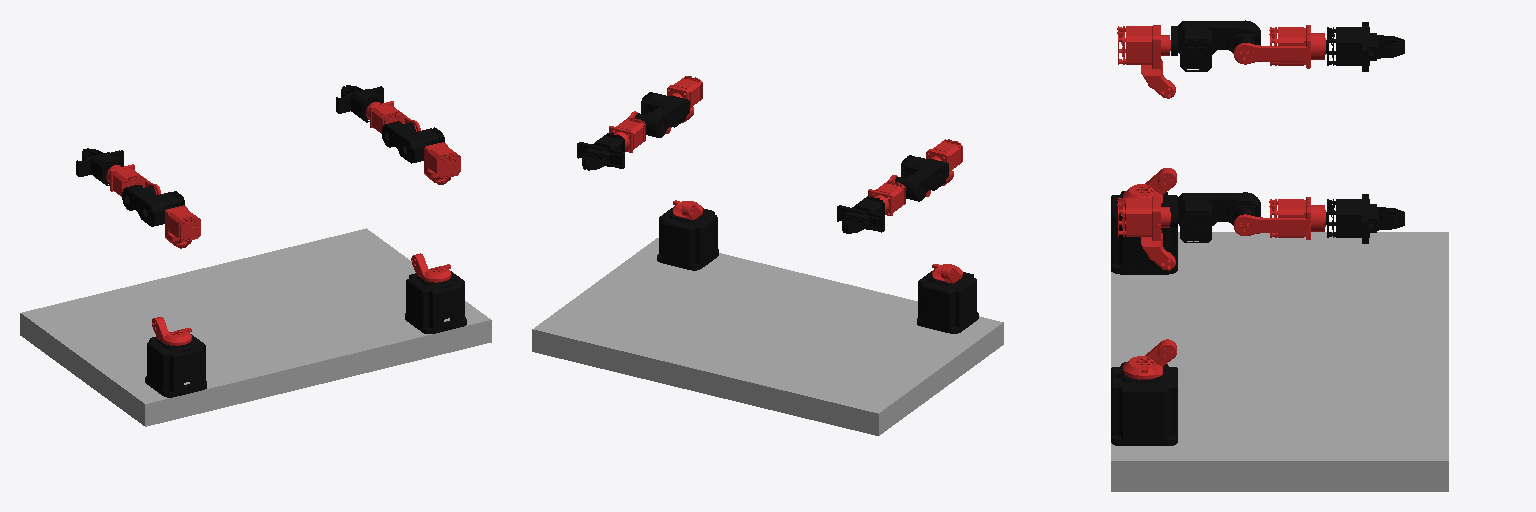
The robot description file, URDF, robot "dual_dummy":
<?xml version="1.0" encoding="utf-8"?>
<!-- ========================================================== -->
<!-- |    This document is dual dummy arm URDF file!          | -->
<!-- |    Editted by jiangjun, 2025.07.09                 | -->
<!-- ========================================================== -->
<robot name="dual_dummy">
  <!-- 定义材质颜色 -->
  <material name="silver">
    <color rgba="0.700 0.700 0.700 1.000"/>
  </material>
  <material name="red">
    <color rgba="0.8 0.2 0.2 1.0"/> <!-- 深红色 -->
  </material>
  <material name="black">
    <color rgba="0.1 0.1 0.1 1.0"/> <!-- 深黑灰色 -->
  </material>
  
  <!-- 定义固定世界关节 -->
  <link name="world"/>
  <joint name="world_joint" type="fixed">
    <parent link="world"/>
    <child link="base_plate"/>
    <origin xyz="0.0 0.0 0.025"/>
  </joint>
  
  <!-- 公共基座 -->
  <link name="base_plate">
    <inertial>
      <origin rpy="0 0 0" xyz="0 0 0"/>
      <mass value="5.0"/>
      <inertia ixx="0.1" ixy="0" ixz="0" iyy="0.1" iyz="0" izz="0.1"/>
    </inertial>
    <visual>
      <geometry>
        <box size="0.8 0.5 0.05"/>
      </geometry>
      <material name="silver"/>
    </visual>
    <collision>
      <origin rpy="0 0 0" xyz="0 0 0"/>
      <geometry>
        <box size="0.5 0.8 0.05"/>
      </geometry>
    </collision>
  </link>
  


  <!-- 机械臂连杆定义 -->
  <link name="left_base_link">
    <inertial>
      <origin rpy="0 0 0" xyz="2.242591646188575e-07 0.00022711838502637176 0.0543574942352709"/>
      <mass value="1.2152141810431654"/>
      <inertia ixx="0.002105" ixy="-0.0" ixz="0.0" iyy="0.002245" iyz="-1.1e-05" izz="0.002436"/>
    </inertial>
    <visual>
      <origin rpy="0 0 0" xyz="0 0 0"/>
      <geometry>
         <mesh filename="package://dummy2_description/meshes/base_link.stl" scale="0.001 0.001 0.001"/>
      </geometry>
      <material name="black"/>
    </visual>
    <collision>
      <origin rpy="0 0 0" xyz="0 0 0"/>
      <geometry>
         <mesh filename="package://dummy2_description/meshes/base_link.stl" scale="0.001 0.001 0.001"/>
      </geometry>
    </collision>
  </link>
  <link name="left_link1_1">
    <inertial>
      <origin rpy="0 0 0" xyz="-0.0056980705903348725 0.00648616835675352 0.012857190819102027"/>
      <mass value="0.1444690972471256"/>
      <inertia ixx="6.5e-05" ixy="2.1e-05" ixz="9e-06" iyy="5.4e-05" iyz="-1.5e-05" izz="9e-05"/>
    </inertial>
    <visual>
      <origin rpy="0 0 0" xyz="0.0 0.0 -0.096"/>
      <geometry>
         <mesh filename="package://dummy2_description/meshes/link1_1.stl" scale="0.001 0.001 0.001"/>
      </geometry>
      <material name="red"/>
    </visual>
    <collision>
      <origin rpy="0 0 0" xyz="0.0 0.0 -0.096"/>
      <geometry>
         <mesh filename="package://dummy2_description/meshes/link1_1.stl" scale="0.001 0.001 0.001"/>
      </geometry>
    </collision>
  </link>
  <link name="left_link2_1">
    <inertial>
      <origin rpy="0 0 0" xyz="0.0188447417509659 0.0019829653147296275 0.08367138108787778"/>
      <mass value="0.6521077215074461"/>
      <inertia ixx="0.002179" ixy="-1e-06" ixz="0.000265" iyy="0.002318" iyz="2.2e-05" izz="0.000411"/>
    </inertial>
    <visual>
      <origin rpy="0 0 0" xyz="0.011639 -0.034477 -0.1245"/>
      <geometry>
         <mesh filename="package://dummy2_description/meshes/link2_1.stl" scale="0.001 0.001 0.001"/>
      </geometry>
      <material name="black"/>
    </visual>
    <collision>
      <origin rpy="0 0 0" xyz="0.011639 -0.034477 -0.1245"/>
      <geometry>
         <mesh filename="package://dummy2_description/meshes/link2_1.stl" scale="0.001 0.001 0.001"/>
      </geometry>
    </collision>
  </link>
  <link name="left_link3_1">
    <inertial>
      <origin rpy="0 0 0" xyz="-0.01071065579982854 -0.027860026044143744 0.04896369644132431"/>
      <mass value="0.6005346433244714"/>
      <inertia ixx="0.000823" ixy="-4e-05" ixz="8.7e-05" iyy="0.000697" iyz="0.000126" izz="0.000535"/>
    </inertial>
    <visual>
      <origin rpy="0 0 0" xyz="-0.024511 -0.034477 -0.2925"/>
      <geometry>
         <mesh filename="package://dummy2_description/meshes/link3_1.stl" scale="0.001 0.001 0.001"/>
      </geometry>
      <material name="red"/>
    </visual>
    <collision>
      <origin rpy="0 0 0" xyz="-0.024511 -0.034477 -0.2925"/>
      <geometry>
         <mesh filename="package://dummy2_description/meshes/link3_1.stl" scale="0.001 0.001 0.001"/>
      </geometry>
    </collision>
  </link>
  <link name="left_link4_1">
    <inertial>
      <origin rpy="0 0 0" xyz="-0.0052376144149527196 0.0600375883820652 0.0005874969147224296"/>
      <mass value="0.1580312221089852"/>
      <inertia ixx="0.000624" ixy="4e-05" ixz="3e-06" iyy="0.000202" iyz="-5e-06" izz="0.000688"/>
    </inertial>
    <visual>
      <origin rpy="0 0 0" xyz="-0.011349 -0.038577 -0.354967"/>
      <geometry>
         <mesh filename="package://dummy2_description/meshes/link4_1.stl" scale="0.001 0.001 0.001"/>
      </geometry>
      <material name="black"/>
    </visual>
    <collision>
      <origin rpy="0 0 0" xyz="-0.011349 -0.038577 -0.354967"/>
      <geometry>
         <mesh filename="package://dummy2_description/meshes/link4_1.stl" scale="0.001 0.001 0.001"/>
      </geometry>
    </collision>
  </link>
  <link name="left_link5_1">
    <inertial>
      <origin rpy="0 0 0" xyz="-0.014439500295566867 0.07274346111500346 -0.0007483346369849819"/>
      <mass value="0.07858738652766984"/>
      <inertia ixx="0.00089" ixy="0.000144" ixz="-4e-06" iyy="0.000343" iyz="6e-06" izz="0.000973"/>
    </inertial>
    <visual>
      <origin rpy="0 0 0" xyz="-0.032649 -0.148577 -0.354967"/>
      <geometry>
         <mesh filename="package://dummy2_description/meshes/link5_1.stl" scale="0.001 0.001 0.001"/>
      </geometry>
      <material name="red"/>
    </visual>
    <collision>
      <origin rpy="0 0 0" xyz="-0.032649 -0.148577 -0.354967"/>
      <geometry>
         <mesh filename="package://dummy2_description/meshes/link5_1.stl" scale="0.001 0.001 0.001"/>
      </geometry>
    </collision>
  </link>
  <link name="left_link6_1">
    <inertial>
      <origin rpy="0 0 0" xyz="5.087622746753444e-05 0.04245066924408897 6.811081131086194e-05"/>
      <mass value="0.0604072405055537"/>
      <inertia ixx="0.000334" ixy="-2e-06" ixz="-1e-06" iyy="0.000382" iyz="2e-06" izz="0.000521"/>
    </inertial>
    <visual>
      <origin rpy="0 0 0" xyz="-0.012827 -0.268077 -0.353741"/>
      <geometry>
         <mesh filename="package://dummy2_description/meshes/link6_1.stl" scale="0.001 0.001 0.001"/>
      </geometry>
      <material name="black"/>
    </visual>
    <collision>
      <origin rpy="0 0 0" xyz="-0.012827 -0.268077 -0.353741"/>
      <geometry>
         <mesh filename="package://dummy2_description/meshes/link6_1.stl" scale="0.001 0.001 0.001"/>
      </geometry>
    </collision>
  </link>
  <link name="left_figer1_1">
    <inertial>
      <origin rpy="0 0 0" xyz="-0.001013816286429263 0.017871453686335137 -9.360034337241308e-05"/>
      <mass value="0.0122978780886348"/>
      <inertia ixx="8e-06" ixy="1e-06" ixz="0.0" iyy="2e-06" iyz="0.0" izz="8e-06"/>
    </inertial>
    <visual>
      <origin rpy="0 0 0" xyz="-0.025651 -0.342539 -0.353641"/>
      <geometry>
         <mesh filename="package://dummy2_description/meshes/figer1_1.stl" scale="0.001 0.001 0.001"/>
      </geometry>
      <material name="black"/>
    </visual>
    <collision>
      <origin rpy="0 0 0" xyz="-0.025651 -0.342539 -0.353641"/>
      <geometry>
         <mesh filename="package://dummy2_description/meshes/figer1_1.stl" scale="0.001 0.001 0.001"/>
      </geometry>
    </collision>
  </link>
  <link name="left_figer2_1">
    <inertial>
      <origin rpy="0 0 0" xyz="0.001014115315322053 0.01787145295991821 9.418612516776115e-05"/>
      <mass value="0.012297878145578977"/>
      <inertia ixx="8e-06" ixy="-1e-06" ixz="0.0" iyy="2e-06" iyz="-0.0" izz="8e-06"/>
    </inertial>
    <visual>
      <origin rpy="0 0 0" xyz="-0.000651 -0.342539 -0.353741"/>
      <geometry>
         <mesh filename="package://dummy2_description/meshes/figer2_1.stl" scale="0.001 0.001 0.001"/>
      </geometry>
      <material name="black"/>
    </visual>
    <collision>
      <origin rpy="0 0 0" xyz="-0.000651 -0.342539 -0.353741"/>
      <geometry>
         <mesh filename="package://dummy2_description/meshes/figer2_1.stl" scale="0.001 0.001 0.001"/>
      </geometry>
    </collision>
  </link>
 

  <!-- 机械臂关节定义 -->

  <joint name="left_base_joint" type="fixed">
    <origin rpy="0 0 0" xyz="-0.3 -0.2 0.025"/> <!-- 机械臂偏移位置 -->
    <parent link="base_plate"/>
    <child link="left_base_link"/>
  </joint>
  <joint name="left_joint1" type="revolute">
    <origin rpy="0 0 0" xyz="0.0 0.0 0.096"/>
    <parent link="left_base_link"/>
    <child link="left_link1_1"/>
    <axis xyz="0.0 -0.0 -1.0"/>
    <limit effort="100" lower="-3.001966" upper="3.001966" velocity="100"/>

  </joint>
  <joint name="left_joint2" type="revolute">
    <origin rpy="0 0 0" xyz="-0.011639 0.034477 0.0285"/>
    <parent link="left_link1_1"/>
    <child link="left_link2_1"/>
    <axis xyz="1.0 0.0 -0.0"/>
    <limit effort="100" lower="-1.570796" upper="1.308997" velocity="100"/>
    <dynamics damping="1" friction="0.05"/> 
  </joint>
  <joint name="left_joint3" type="revolute">
    <origin rpy="0 0 0" xyz="0.03615 0.0 0.168"/>
    <parent link="left_link2_1"/>
    <child link="left_link3_1"/>
    <axis xyz="-1.0 -0.0 -0.0"/>
    <limit effort="200" lower="-1.500983" upper="1.570796" velocity="100"/>

  </joint>
  <joint name="left_joint4" type="revolute">
    <origin rpy="0 0 0" xyz="-0.013162 0.0041 0.062467"/>
    <parent link="left_link3_1"/>
    <child link="left_link4_1"/>
    <axis xyz="0.0 -1.0 0.0"/>
    <limit effort="100" lower="-3.141593" upper="3.141593" velocity="100"/>

  </joint>
  <joint name="left_joint5" type="revolute">
    <origin rpy="0 0 0" xyz="0.0213 0.11 0.0"/>
    <parent link="left_link4_1"/>
    <child link="left_link5_1"/>
    <axis xyz="-1.0 -0.0 -0.0"/>
    <limit effort="200" lower="-1.919862" upper="2.094395" velocity="100"/>
    <dynamics damping="0.6" friction="0.06"/> 
  </joint>
  <joint name="left_joint6" type="revolute">
    <origin rpy="0 0 0" xyz="-0.019822 0.1195 -0.001226"/>
    <parent link="left_link5_1"/>
    <child link="left_link6_1"/>
    <axis xyz="0.0 -1.0 -0.0"/>
    <limit effort="100" lower="-3.141593" upper="3.141593" velocity="100"/>

  </joint>
  <joint name="left_figer1" type="prismatic">
    <origin rpy="0 0 0" xyz="0.012824 0.074462 -0.0001"/>
    <parent link="left_link6_1"/>
    <child link="left_figer1_1"/>
    <axis xyz="1.0 0.0 0.0"/>
    <limit effort="100" lower="0.0" upper="0.028" velocity="100"/>

  </joint>
  <joint name="left_figer2" type="prismatic">
    <origin rpy="0 0 0" xyz="-0.012176 0.074462 0.0"/>
    <parent link="left_link6_1"/>
    <child link="left_figer2_1"/>
    <axis xyz="1.0 0.0 0.0"/>
    <limit effort="100" lower="-0.028" upper="0.0" velocity="100"/>

  </joint>
   

  <!-- 机械臂连杆定义 -->
  <link name="right_base_link">
    <inertial>
      <origin rpy="0 0 0" xyz="2.242591646188575e-07 0.00022711838502637176 0.0543574942352709"/>
      <mass value="1.2152141810431654"/>
      <inertia ixx="0.002105" ixy="-0.0" ixz="0.0" iyy="0.002245" iyz="-1.1e-05" izz="0.002436"/>
    </inertial>
    <visual>
      <origin rpy="0 0 0" xyz="0 0 0"/>
      <geometry>
         <mesh filename="package://dummy2_description/meshes/base_link.stl" scale="0.001 0.001 0.001"/>
      </geometry>
      <material name="black"/>
    </visual>
    <collision>
      <origin rpy="0 0 0" xyz="0 0 0"/>
      <geometry>
         <mesh filename="package://dummy2_description/meshes/base_link.stl" scale="0.001 0.001 0.001"/>
      </geometry>
    </collision>
  </link>
  <link name="right_link1_1">
    <inertial>
      <origin rpy="0 0 0" xyz="-0.0056980705903348725 0.00648616835675352 0.012857190819102027"/>
      <mass value="0.1444690972471256"/>
      <inertia ixx="6.5e-05" ixy="2.1e-05" ixz="9e-06" iyy="5.4e-05" iyz="-1.5e-05" izz="9e-05"/>
    </inertial>
    <visual>
      <origin rpy="0 0 0" xyz="0.0 0.0 -0.096"/>
      <geometry>
         <mesh filename="package://dummy2_description/meshes/link1_1.stl" scale="0.001 0.001 0.001"/>
      </geometry>
      <material name="red"/>
    </visual>
    <collision>
      <origin rpy="0 0 0" xyz="0.0 0.0 -0.096"/>
      <geometry>
         <mesh filename="package://dummy2_description/meshes/link1_1.stl" scale="0.001 0.001 0.001"/>
      </geometry>
    </collision>
  </link>
  <link name="right_link2_1">
    <inertial>
      <origin rpy="0 0 0" xyz="0.0188447417509659 0.0019829653147296275 0.08367138108787778"/>
      <mass value="0.6521077215074461"/>
      <inertia ixx="0.002179" ixy="-1e-06" ixz="0.000265" iyy="0.002318" iyz="2.2e-05" izz="0.000411"/>
    </inertial>
    <visual>
      <origin rpy="0 0 0" xyz="0.011639 -0.034477 -0.1245"/>
      <geometry>
         <mesh filename="package://dummy2_description/meshes/link2_1.stl" scale="0.001 0.001 0.001"/>
      </geometry>
      <material name="black"/>
    </visual>
    <collision>
      <origin rpy="0 0 0" xyz="0.011639 -0.034477 -0.1245"/>
      <geometry>
         <mesh filename="package://dummy2_description/meshes/link2_1.stl" scale="0.001 0.001 0.001"/>
      </geometry>
    </collision>
  </link>
  <link name="right_link3_1">
    <inertial>
      <origin rpy="0 0 0" xyz="-0.01071065579982854 -0.027860026044143744 0.04896369644132431"/>
      <mass value="0.6005346433244714"/>
      <inertia ixx="0.000823" ixy="-4e-05" ixz="8.7e-05" iyy="0.000697" iyz="0.000126" izz="0.000535"/>
    </inertial>
    <visual>
      <origin rpy="0 0 0" xyz="-0.024511 -0.034477 -0.2925"/>
      <geometry>
         <mesh filename="package://dummy2_description/meshes/link3_1.stl" scale="0.001 0.001 0.001"/>
      </geometry>
      <material name="red"/>
    </visual>
    <collision>
      <origin rpy="0 0 0" xyz="-0.024511 -0.034477 -0.2925"/>
      <geometry>
         <mesh filename="package://dummy2_description/meshes/link3_1.stl" scale="0.001 0.001 0.001"/>
      </geometry>
    </collision>
  </link>
  <link name="right_link4_1">
    <inertial>
      <origin rpy="0 0 0" xyz="-0.0052376144149527196 0.0600375883820652 0.0005874969147224296"/>
      <mass value="0.1580312221089852"/>
      <inertia ixx="0.000624" ixy="4e-05" ixz="3e-06" iyy="0.000202" iyz="-5e-06" izz="0.000688"/>
    </inertial>
    <visual>
      <origin rpy="0 0 0" xyz="-0.011349 -0.038577 -0.354967"/>
      <geometry>
         <mesh filename="package://dummy2_description/meshes/link4_1.stl" scale="0.001 0.001 0.001"/>
      </geometry>
      <material name="black"/>
    </visual>
    <collision>
      <origin rpy="0 0 0" xyz="-0.011349 -0.038577 -0.354967"/>
      <geometry>
         <mesh filename="package://dummy2_description/meshes/link4_1.stl" scale="0.001 0.001 0.001"/>
      </geometry>
    </collision>
  </link>
  <link name="right_link5_1">
    <inertial>
      <origin rpy="0 0 0" xyz="-0.014439500295566867 0.07274346111500346 -0.0007483346369849819"/>
      <mass value="0.07858738652766984"/>
      <inertia ixx="0.00089" ixy="0.000144" ixz="-4e-06" iyy="0.000343" iyz="6e-06" izz="0.000973"/>
    </inertial>
    <visual>
      <origin rpy="0 0 0" xyz="-0.032649 -0.148577 -0.354967"/>
      <geometry>
         <mesh filename="package://dummy2_description/meshes/link5_1.stl" scale="0.001 0.001 0.001"/>
      </geometry>
      <material name="red"/>
    </visual>
    <collision>
      <origin rpy="0 0 0" xyz="-0.032649 -0.148577 -0.354967"/>
      <geometry>
         <mesh filename="package://dummy2_description/meshes/link5_1.stl" scale="0.001 0.001 0.001"/>
      </geometry>
    </collision>
  </link>
  <link name="right_link6_1">
    <inertial>
      <origin rpy="0 0 0" xyz="5.087622746753444e-05 0.04245066924408897 6.811081131086194e-05"/>
      <mass value="0.0604072405055537"/>
      <inertia ixx="0.000334" ixy="-2e-06" ixz="-1e-06" iyy="0.000382" iyz="2e-06" izz="0.000521"/>
    </inertial>
    <visual>
      <origin rpy="0 0 0" xyz="-0.012827 -0.268077 -0.353741"/>
      <geometry>
         <mesh filename="package://dummy2_description/meshes/link6_1.stl" scale="0.001 0.001 0.001"/>
      </geometry>
      <material name="black"/>
    </visual>
    <collision>
      <origin rpy="0 0 0" xyz="-0.012827 -0.268077 -0.353741"/>
      <geometry>
         <mesh filename="package://dummy2_description/meshes/link6_1.stl" scale="0.001 0.001 0.001"/>
      </geometry>
    </collision>
  </link>
  <link name="right_figer1_1">
    <inertial>
      <origin rpy="0 0 0" xyz="-0.001013816286429263 0.017871453686335137 -9.360034337241308e-05"/>
      <mass value="0.0422978780886348"/>
      <inertia ixx="8e-06" ixy="1e-06" ixz="0.0" iyy="2e-06" iyz="0.0" izz="8e-06"/>
    </inertial>
    <visual>
      <origin rpy="0 0 0" xyz="-0.025651 -0.342539 -0.353641"/>
      <geometry>
         <mesh filename="package://dummy2_description/meshes/figer1_1.stl" scale="0.001 0.001 0.001"/>
      </geometry>
      <material name="black"/>
    </visual>
    <collision>
      <origin rpy="0 0 0" xyz="-0.025651 -0.342539 -0.353641"/>
      <geometry>
         <mesh filename="package://dummy2_description/meshes/figer1_1.stl" scale="0.001 0.001 0.001"/>
      </geometry>
    </collision>
  </link>
  <link name="right_figer2_1">
    <inertial>
      <origin rpy="0 0 0" xyz="0.001014115315322053 0.01787145295991821 9.418612516776115e-05"/>
      <mass value="0.042297878145578977"/>
      <inertia ixx="8e-06" ixy="-1e-06" ixz="0.0" iyy="2e-06" iyz="-0.0" izz="8e-06"/>
    </inertial>
    <visual>
      <origin rpy="0 0 0" xyz="-0.000651 -0.342539 -0.353741"/>
      <geometry>
         <mesh filename="package://dummy2_description/meshes/figer2_1.stl" scale="0.001 0.001 0.001"/>
      </geometry>
      <material name="black"/>
    </visual>
    <collision>
      <origin rpy="0 0 0" xyz="-0.000651 -0.342539 -0.353741"/>
      <geometry>
         <mesh filename="package://dummy2_description/meshes/figer2_1.stl" scale="0.001 0.001 0.001"/>
      </geometry>
    </collision>
  </link>

  <!-- 机械臂关节定义 -->

  <joint name="right_base_joint" type="fixed">
    <origin rpy="0 0 0" xyz="0.3 -0.2 0.025"/> <!-- 机械臂偏移位置 -->
    <parent link="base_plate"/>
    <child link="right_base_link"/>
  </joint>
  <joint name="right_joint1" type="revolute">
    <origin rpy="0 0 0" xyz="0.0 0.0 0.096"/>
    <parent link="right_base_link"/>
    <child link="right_link1_1"/>
    <axis xyz="0.0 -0.0 -1.0"/>
    <limit effort="100" lower="-3.001966" upper="3.001966" velocity="100"/>

  </joint>
  <joint name="right_joint2" type="revolute">
    <origin rpy="0 0 0" xyz="-0.011639 0.034477 0.0285"/>
    <parent link="right_link1_1"/>
    <child link="right_link2_1"/>
    <axis xyz="1.0 0.0 -0.0"/>
    <limit effort="100" lower="-1.570796" upper="1.308997" velocity="100"/>
    <dynamics damping="1" friction="0.05"/> 
  </joint>
  <joint name="right_joint3" type="revolute">
    <origin rpy="0 0 0" xyz="0.03615 0.0 0.168"/>
    <parent link="right_link2_1"/>
    <child link="right_link3_1"/>
    <axis xyz="-1.0 -0.0 -0.0"/>
    <limit effort="200" lower="-1.500983" upper="1.570796" velocity="100"/>

  </joint>
  <joint name="right_joint4" type="revolute">
    <origin rpy="0 0 0" xyz="-0.013162 0.0041 0.062467"/>
    <parent link="right_link3_1"/>
    <child link="right_link4_1"/>
    <axis xyz="0.0 -1.0 0.0"/>
    <limit effort="100" lower="-3.141593" upper="3.141593" velocity="100"/>

  </joint>
  <joint name="right_joint5" type="revolute">
    <origin rpy="0 0 0" xyz="0.0213 0.11 0.0"/>
    <parent link="right_link4_1"/>
    <child link="right_link5_1"/>
    <axis xyz="-1.0 -0.0 -0.0"/>
    <limit effort="200" lower="-1.919862" upper="2.094395" velocity="100"/>
    <dynamics damping="0.6" friction="0.06"/> 
  </joint>
  <joint name="right_joint6" type="revolute">
    <origin rpy="0 0 0" xyz="-0.019822 0.1195 -0.001226"/>
    <parent link="right_link5_1"/>
    <child link="right_link6_1"/>
    <axis xyz="0.0 -1.0 -0.0"/>
    <limit effort="100" lower="-3.141593" upper="3.141593" velocity="100"/>

  </joint>
  <joint name="right_figer1" type="prismatic">
    <origin rpy="0 0 0" xyz="0.012824 0.074462 -0.0001"/>
    <parent link="right_link6_1"/>
    <child link="right_figer1_1"/>
    <axis xyz="1.0 0.0 0.0"/>
    <limit effort="100" lower="0.0" upper="0.028" velocity="100"/>

  </joint>
  <joint name="right_figer2" type="prismatic">
    <origin rpy="0 0 0" xyz="-0.012176 0.074462 0.0"/>
    <parent link="right_link6_1"/>
    <child link="right_figer2_1"/>
    <axis xyz="-1.0 0.0 0.0"/>
    <limit effort="100" lower="0.0" upper="0.028" velocity="100"/>
    
  </joint>

  

</robot>

--- Facts derived from the render (not from the file) ---
3 views of the same robot in one strip: view 1: azimuth 30°, elevation 25°; view 2: azimuth 150°, elevation 25°; view 3: azimuth 270°, elevation 25° (orthographic).
Robot: dual_dummy — 20 links, 19 joints (12 revolute, 4 prismatic, 3 fixed); root link world; default pose: every joint at zero.
Visible links, largest first — view 1: base_plate, left_base_link, right_base_link, left_link4_1, right_link4_1, right_link3_1, left_link3_1, right_link6_1, left_link6_1, left_link5_1, right_link5_1, left_link1_1 (+1 smaller); view 2: base_plate, left_base_link, right_base_link, right_link4_1, left_link4_1, right_link6_1, left_link6_1, left_link5_1, right_link5_1, left_link3_1, right_link3_1; view 3: base_plate, right_base_link, left_link4_1, right_link4_1, left_link5_1, right_link5_1, left_link3_1, right_link3_1, left_base_link, right_link6_1, left_link6_1, right_link1_1 (+1 smaller).
Link boxes in pixels (x1=…): base_plate: x1=20, y1=228, x2=491, y2=426; left_base_link: x1=145, y1=334, x2=206, y2=397; right_base_link: x1=405, y1=271, x2=466, y2=333; left_link4_1: x1=122, y1=185, x2=184, y2=226; right_link4_1: x1=382, y1=121, x2=444, y2=163; right_link3_1: x1=424, y1=142, x2=460, y2=184; left_link3_1: x1=165, y1=205, x2=200, y2=248; right_link6_1: x1=336, y1=86, x2=383, y2=122; left_link6_1: x1=76, y1=150, x2=123, y2=185; left_link5_1: x1=106, y1=164, x2=160, y2=196; right_link5_1: x1=366, y1=101, x2=420, y2=133; left_link1_1: x1=152, y1=317, x2=191, y2=345; base_plate: x1=532, y1=238, x2=1003, y2=435; left_base_link: x1=917, y1=271, x2=978, y2=333; right_base_link: x1=657, y1=208, x2=718, y2=270; right_link4_1: x1=635, y1=92, x2=689, y2=137; left_link4_1: x1=895, y1=155, x2=948, y2=201; right_link6_1: x1=577, y1=133, x2=624, y2=168; left_link6_1: x1=837, y1=196, x2=884, y2=232; left_link5_1: x1=868, y1=175, x2=905, y2=215; right_link5_1: x1=609, y1=111, x2=645, y2=152; left_link3_1: x1=925, y1=139, x2=962, y2=196; right_link3_1: x1=665, y1=76, x2=702, y2=133; base_plate: x1=1111, y1=232, x2=1448, y2=491; right_base_link: x1=1111, y1=362, x2=1177, y2=445; left_link4_1: x1=1171, y1=20, x2=1260, y2=71; right_link4_1: x1=1171, y1=192, x2=1260, y2=242; left_link5_1: x1=1234, y1=25, x2=1325, y2=68; right_link5_1: x1=1234, y1=197, x2=1325, y2=239; left_link3_1: x1=1117, y1=25, x2=1175, y2=98; right_link3_1: x1=1117, y1=197, x2=1175, y2=270; left_base_link: x1=1111, y1=191, x2=1177, y2=274; right_link6_1: x1=1326, y1=194, x2=1376, y2=243; left_link6_1: x1=1326, y1=22, x2=1376, y2=71; right_link1_1: x1=1123, y1=339, x2=1176, y2=379.
Bounding box of the posed robot: 0.8 × 0.5 × 0.4308 m (x, y, z).
Meshes: 9 distinct files referenced, 16 mesh visuals loaded (8 binary STL); not drawn: 2 (reference not matched to a file when rendering).
